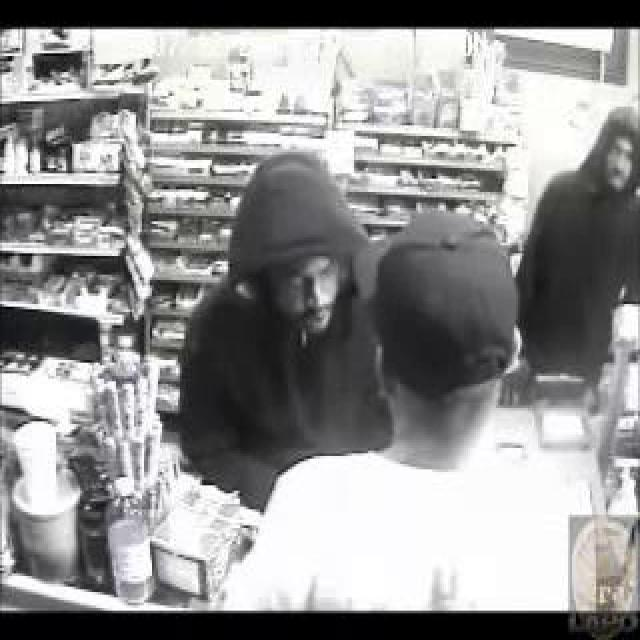robbery: (161, 46, 614, 564)
